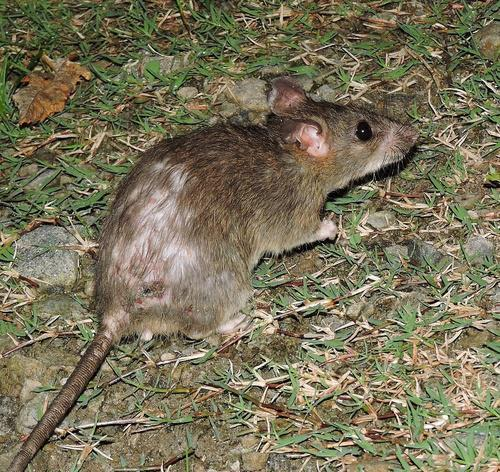rat: (9, 77, 420, 472)
